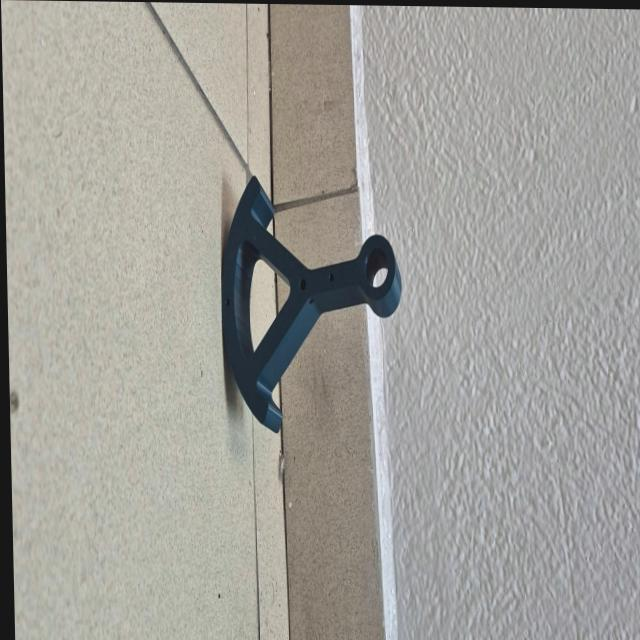haptic: (217, 172, 405, 437)
